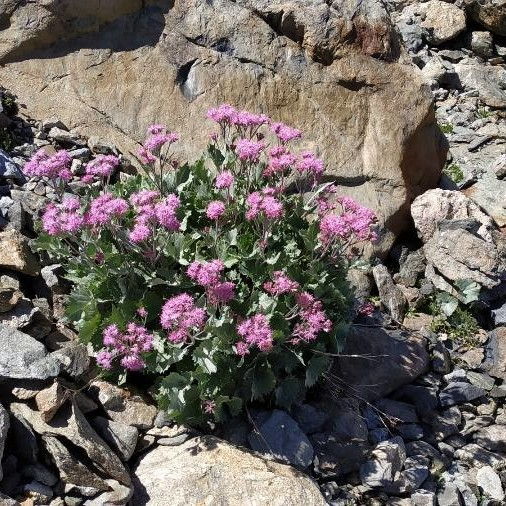obstacle: (26, 135, 334, 382)
